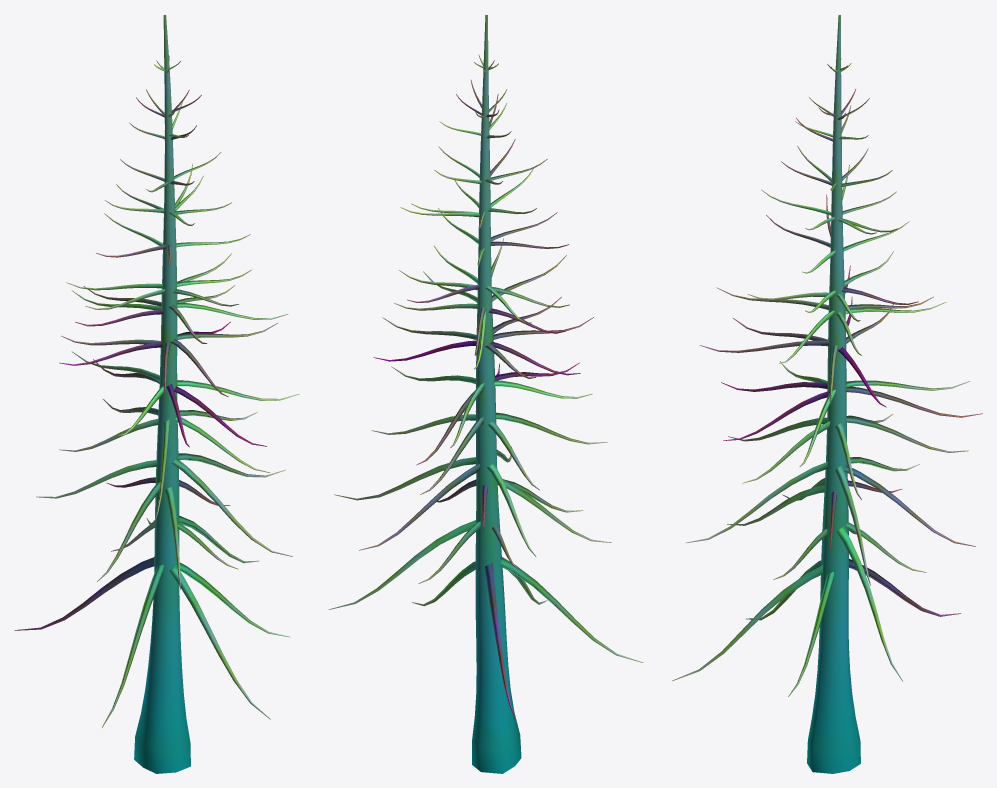
The model's file is spruce-grove-c.glb.
3 views of the same model, side by side, from view 1: azimuth 30°, elevation 25°; view 2: azimuth 150°, elevation 25°; view 3: azimuth 270°, elevation 25° (orthographic).
Parts seen in each view (by area): view 1: bark; view 2: bark; view 3: bark.
Part boxes in pixels (x1=…): bark: x1=14, y1=15, x2=299, y2=773; bark: x1=328, y1=15, x2=643, y2=773; bark: x1=672, y1=15, x2=982, y2=773.
Bounding box in the file's own units: 4.48 × 12.95 × 4.86.
